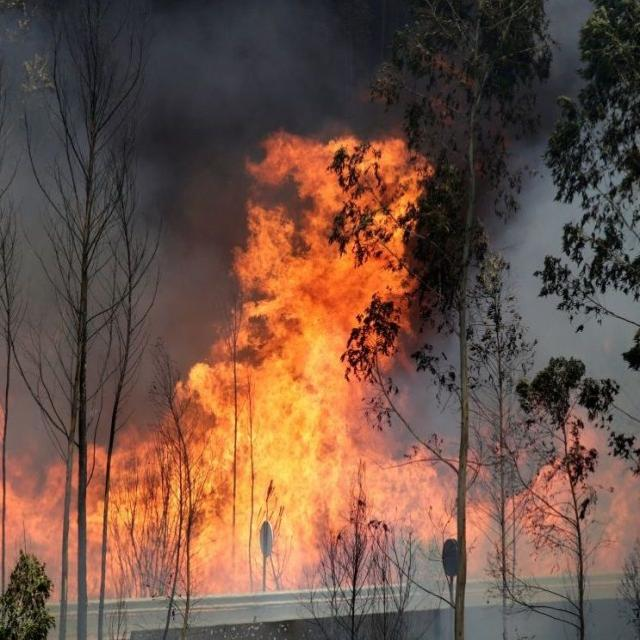Fire: (16, 150, 628, 572)
Smoke: (76, 5, 601, 352)
